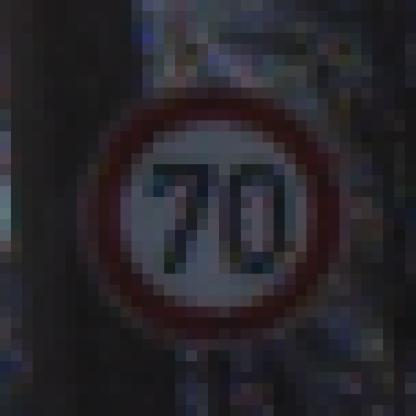Speed Limit 70: (93, 88, 342, 336)
